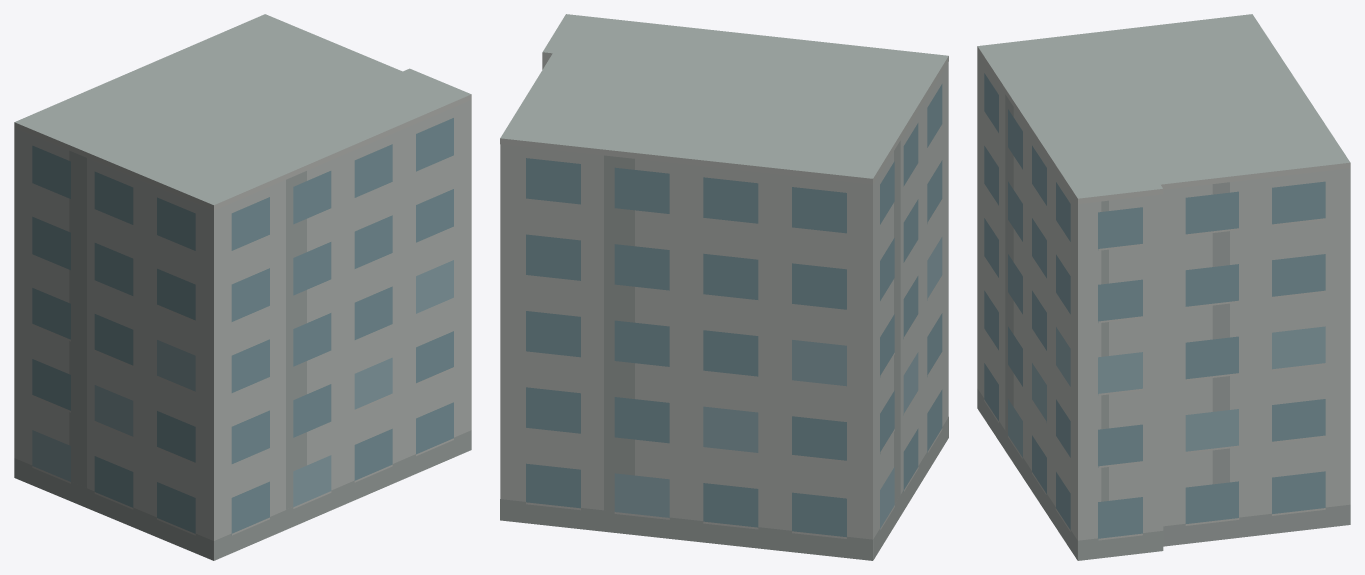
The model's file is survey-upis-32562126.glb.
3 renders of one model, left to right at view 1: azimuth 30°, elevation 25°; view 2: azimuth 150°, elevation 25°; view 3: azimuth 270°, elevation 25°, orthographic. The views are drawn at different scales.
Visible parts, largest first — view 1: survey-upis-32562126.tmp; view 2: survey-upis-32562126.tmp; view 3: survey-upis-32562126.tmp.
Part boxes in pixels (left/top/right/bottom): survey-upis-32562126.tmp: left=14, top=14, right=471, bottom=560; survey-upis-32562126.tmp: left=500, top=14, right=948, bottom=560; survey-upis-32562126.tmp: left=977, top=14, right=1350, bottom=560.
Bounding box in the file's own units: 17.34 × 15.85 × 14.81.
